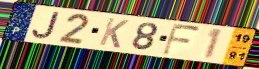1: (203, 28, 225, 61)
2: (57, 13, 93, 46)
8: (131, 22, 160, 51)
F: (160, 22, 203, 57)
J: (31, 11, 62, 40)
K: (97, 17, 131, 50)
